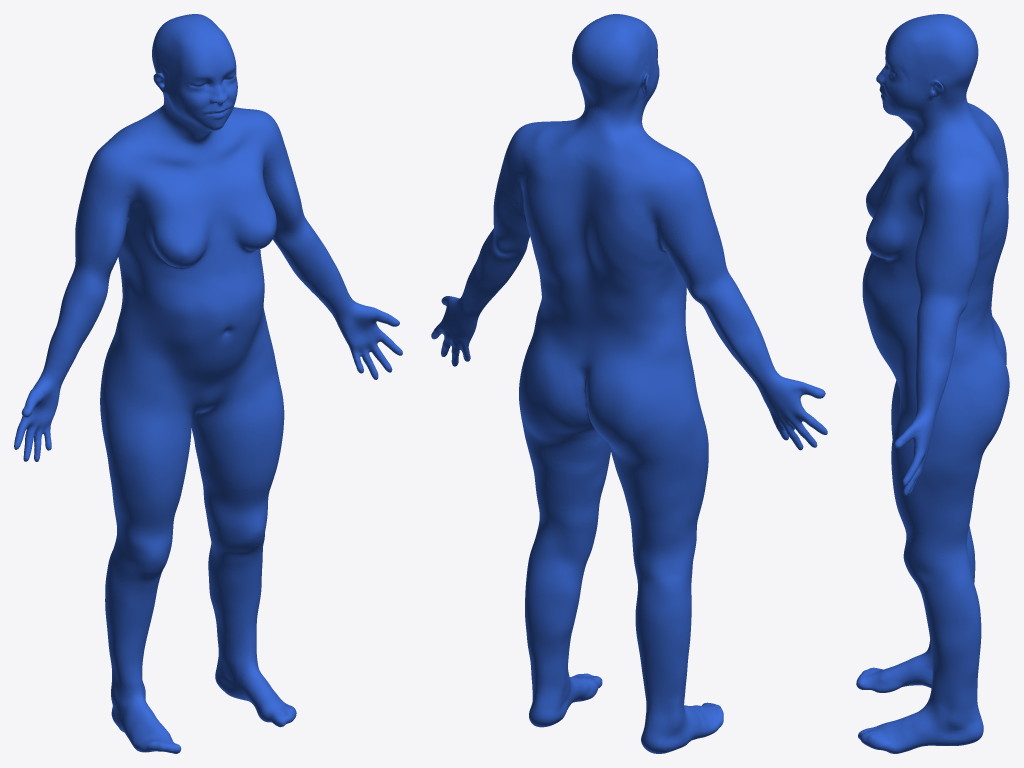
The model's file is 3d-vh-f-skin_0.4.glb.
The picture shows the model from 3 angles, left to right: view 1: azimuth 30°, elevation 25°; view 2: azimuth 150°, elevation 25°; view 3: azimuth 270°, elevation 25°; orthographic projection.
Parts seen in each view (by area): view 1: VH_F_skin; view 2: VH_F_skin; view 3: VH_F_skin.
Part boxes in pixels (x1,y1,x2,y2): VH_F_skin: (14,14,402,753); VH_F_skin: (431,14,827,753); VH_F_skin: (856,14,1009,753).
Bounding box in the file's own units: 0.9675 × 1.67 × 0.3293.
